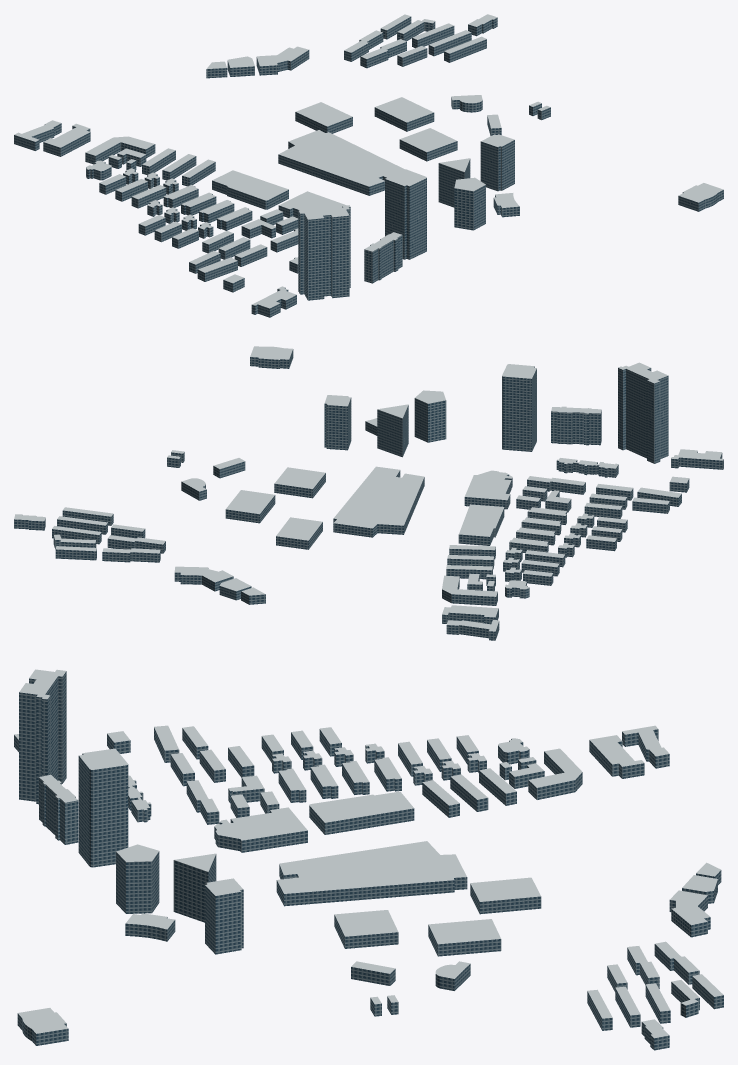
3 views of the same model, one above another, from view 1: azimuth 30°, elevation 25°; view 2: azimuth 150°, elevation 25°; view 3: azimuth 270°, elevation 25° (orthographic). The views are drawn at different scales.
Bounding box in the file's own units: 660 × 106 × 634.
2 materials, 1 textured.
